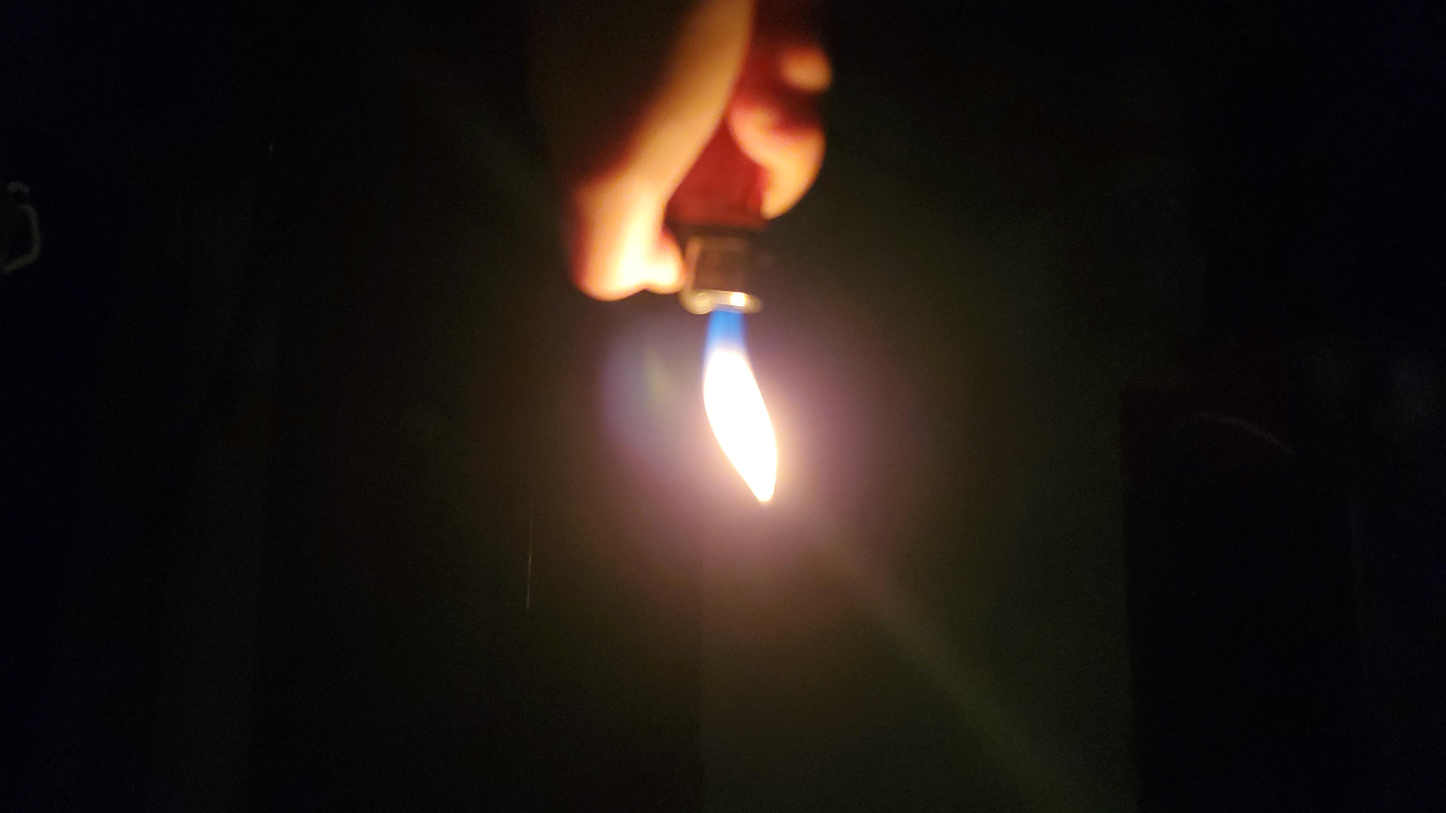fire: (669, 248, 747, 505)
